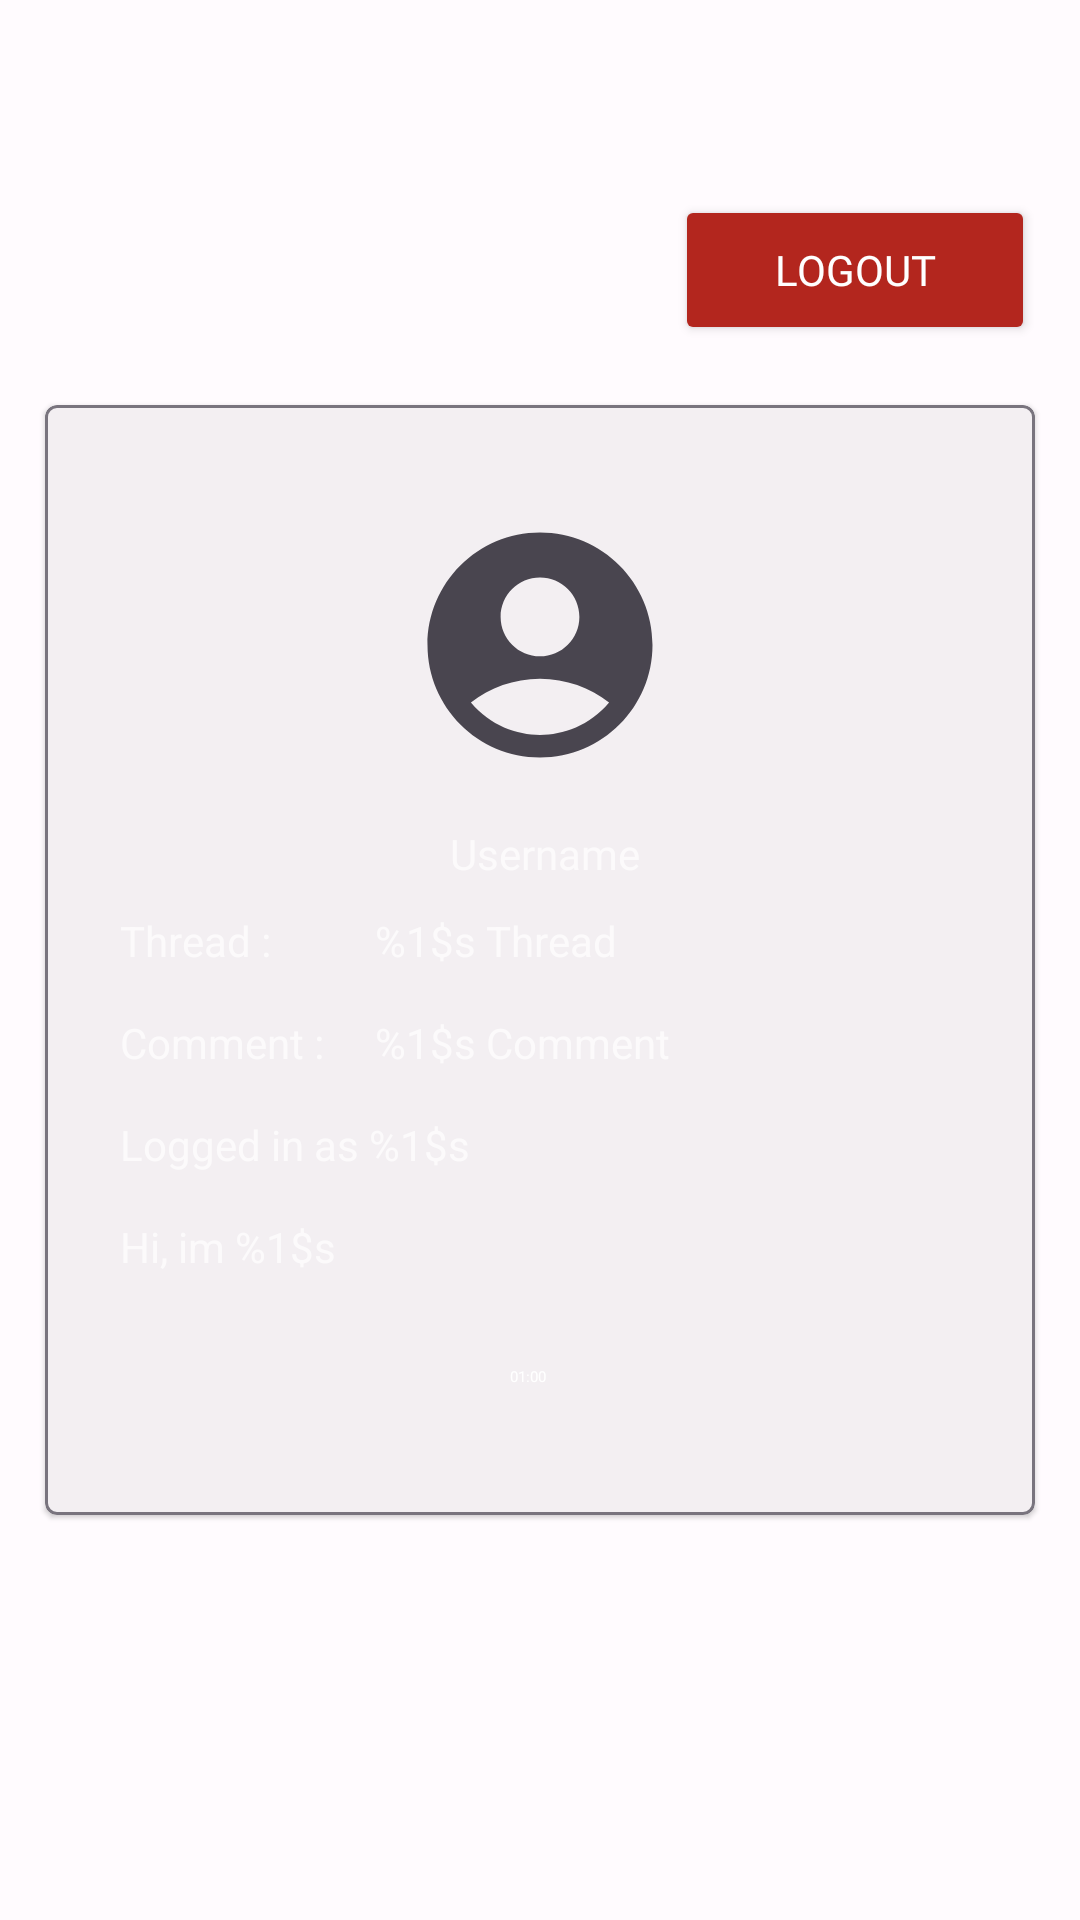

Screen size 1080w x 1920h. Icon name, then its box in pixels as (x1, y1, x2, y2):
account circle: (427, 532, 653, 758)
